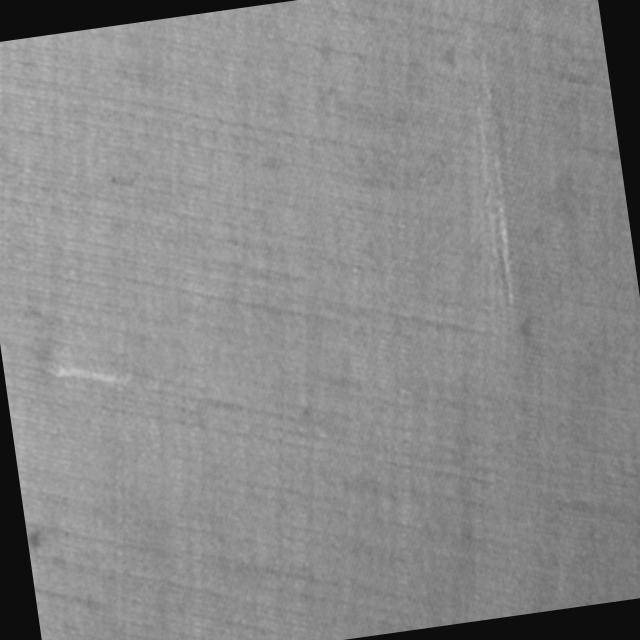thread error: (452, 38, 527, 312), (32, 338, 140, 408)
